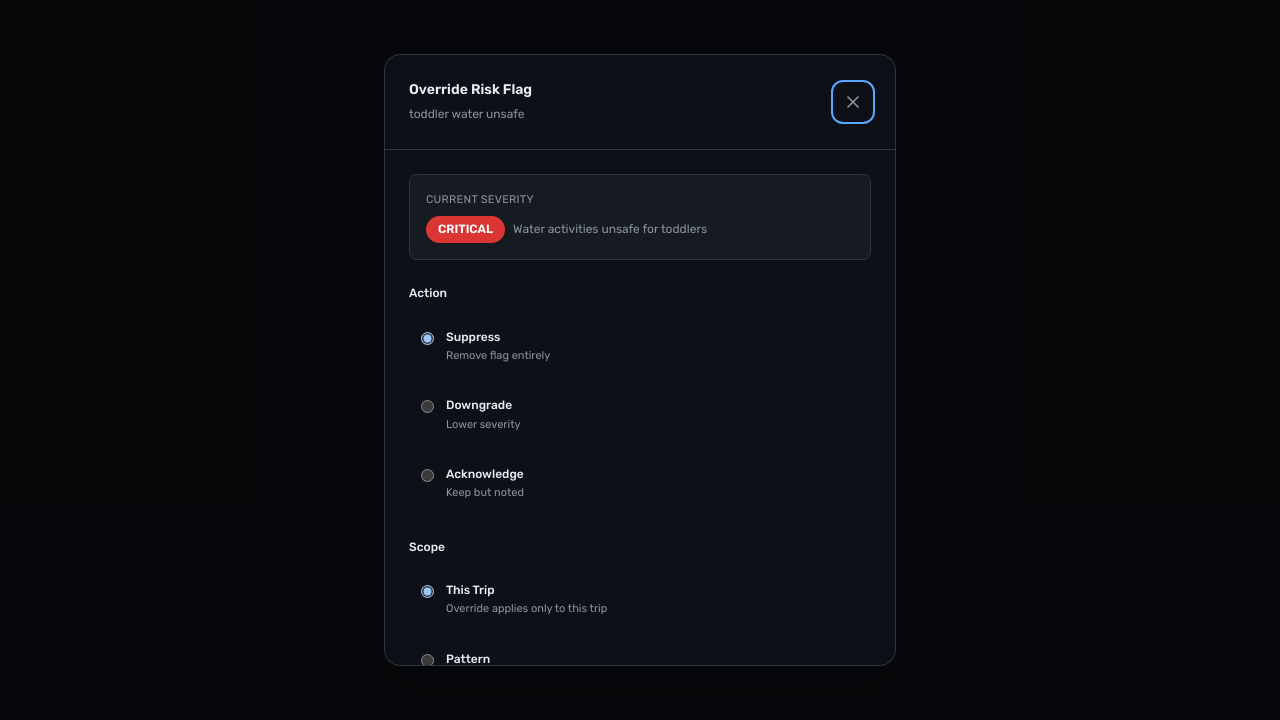
Scenario: OverrideModal › shows severity dropdown for downgrade action
What coordinates should you click on to do the following:
click the text "Downgrade"
I would click on:
 (483, 406)
Its box is [446,396,520,416].
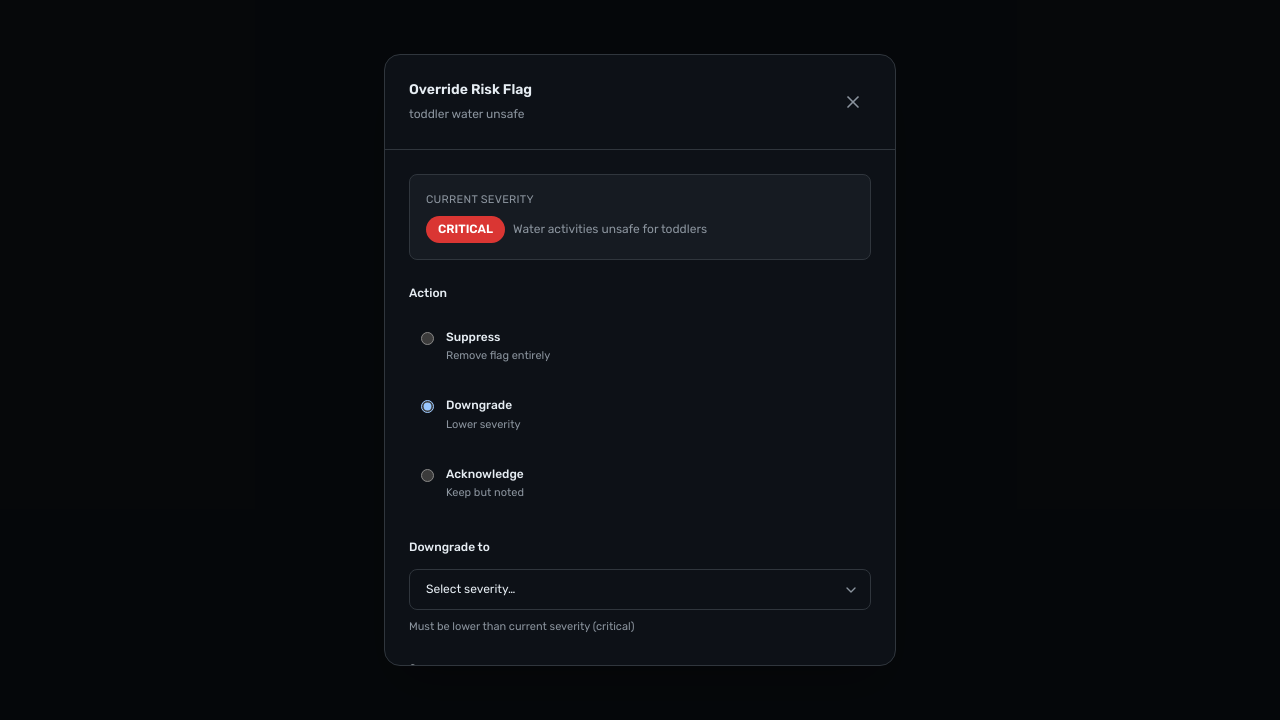
Expected: the text "Downgrade to" is shown, [409,540,490,554]
Expected: the text "Must be lower than current severity (critical)" is shown, [409,620,634,633]
